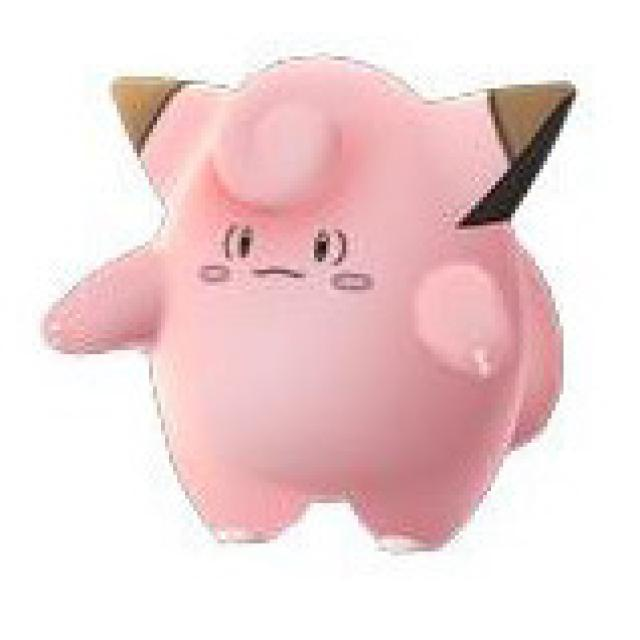Clefairy: (99, 69, 579, 550)
